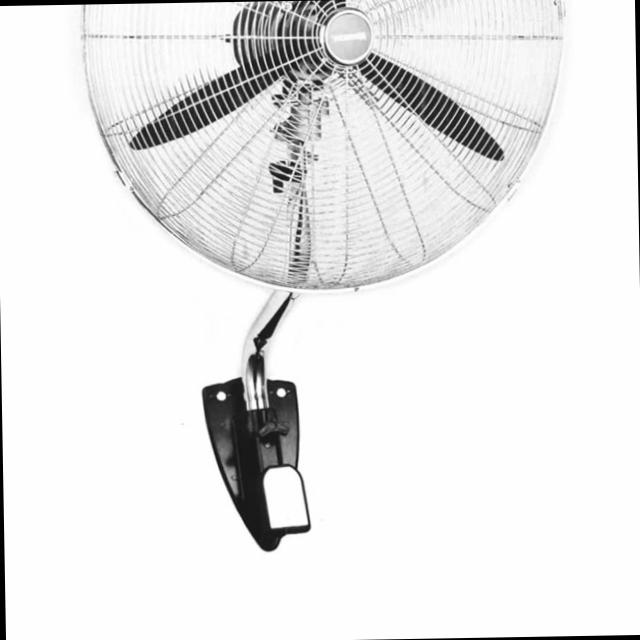fan: (50, 0, 603, 576)
